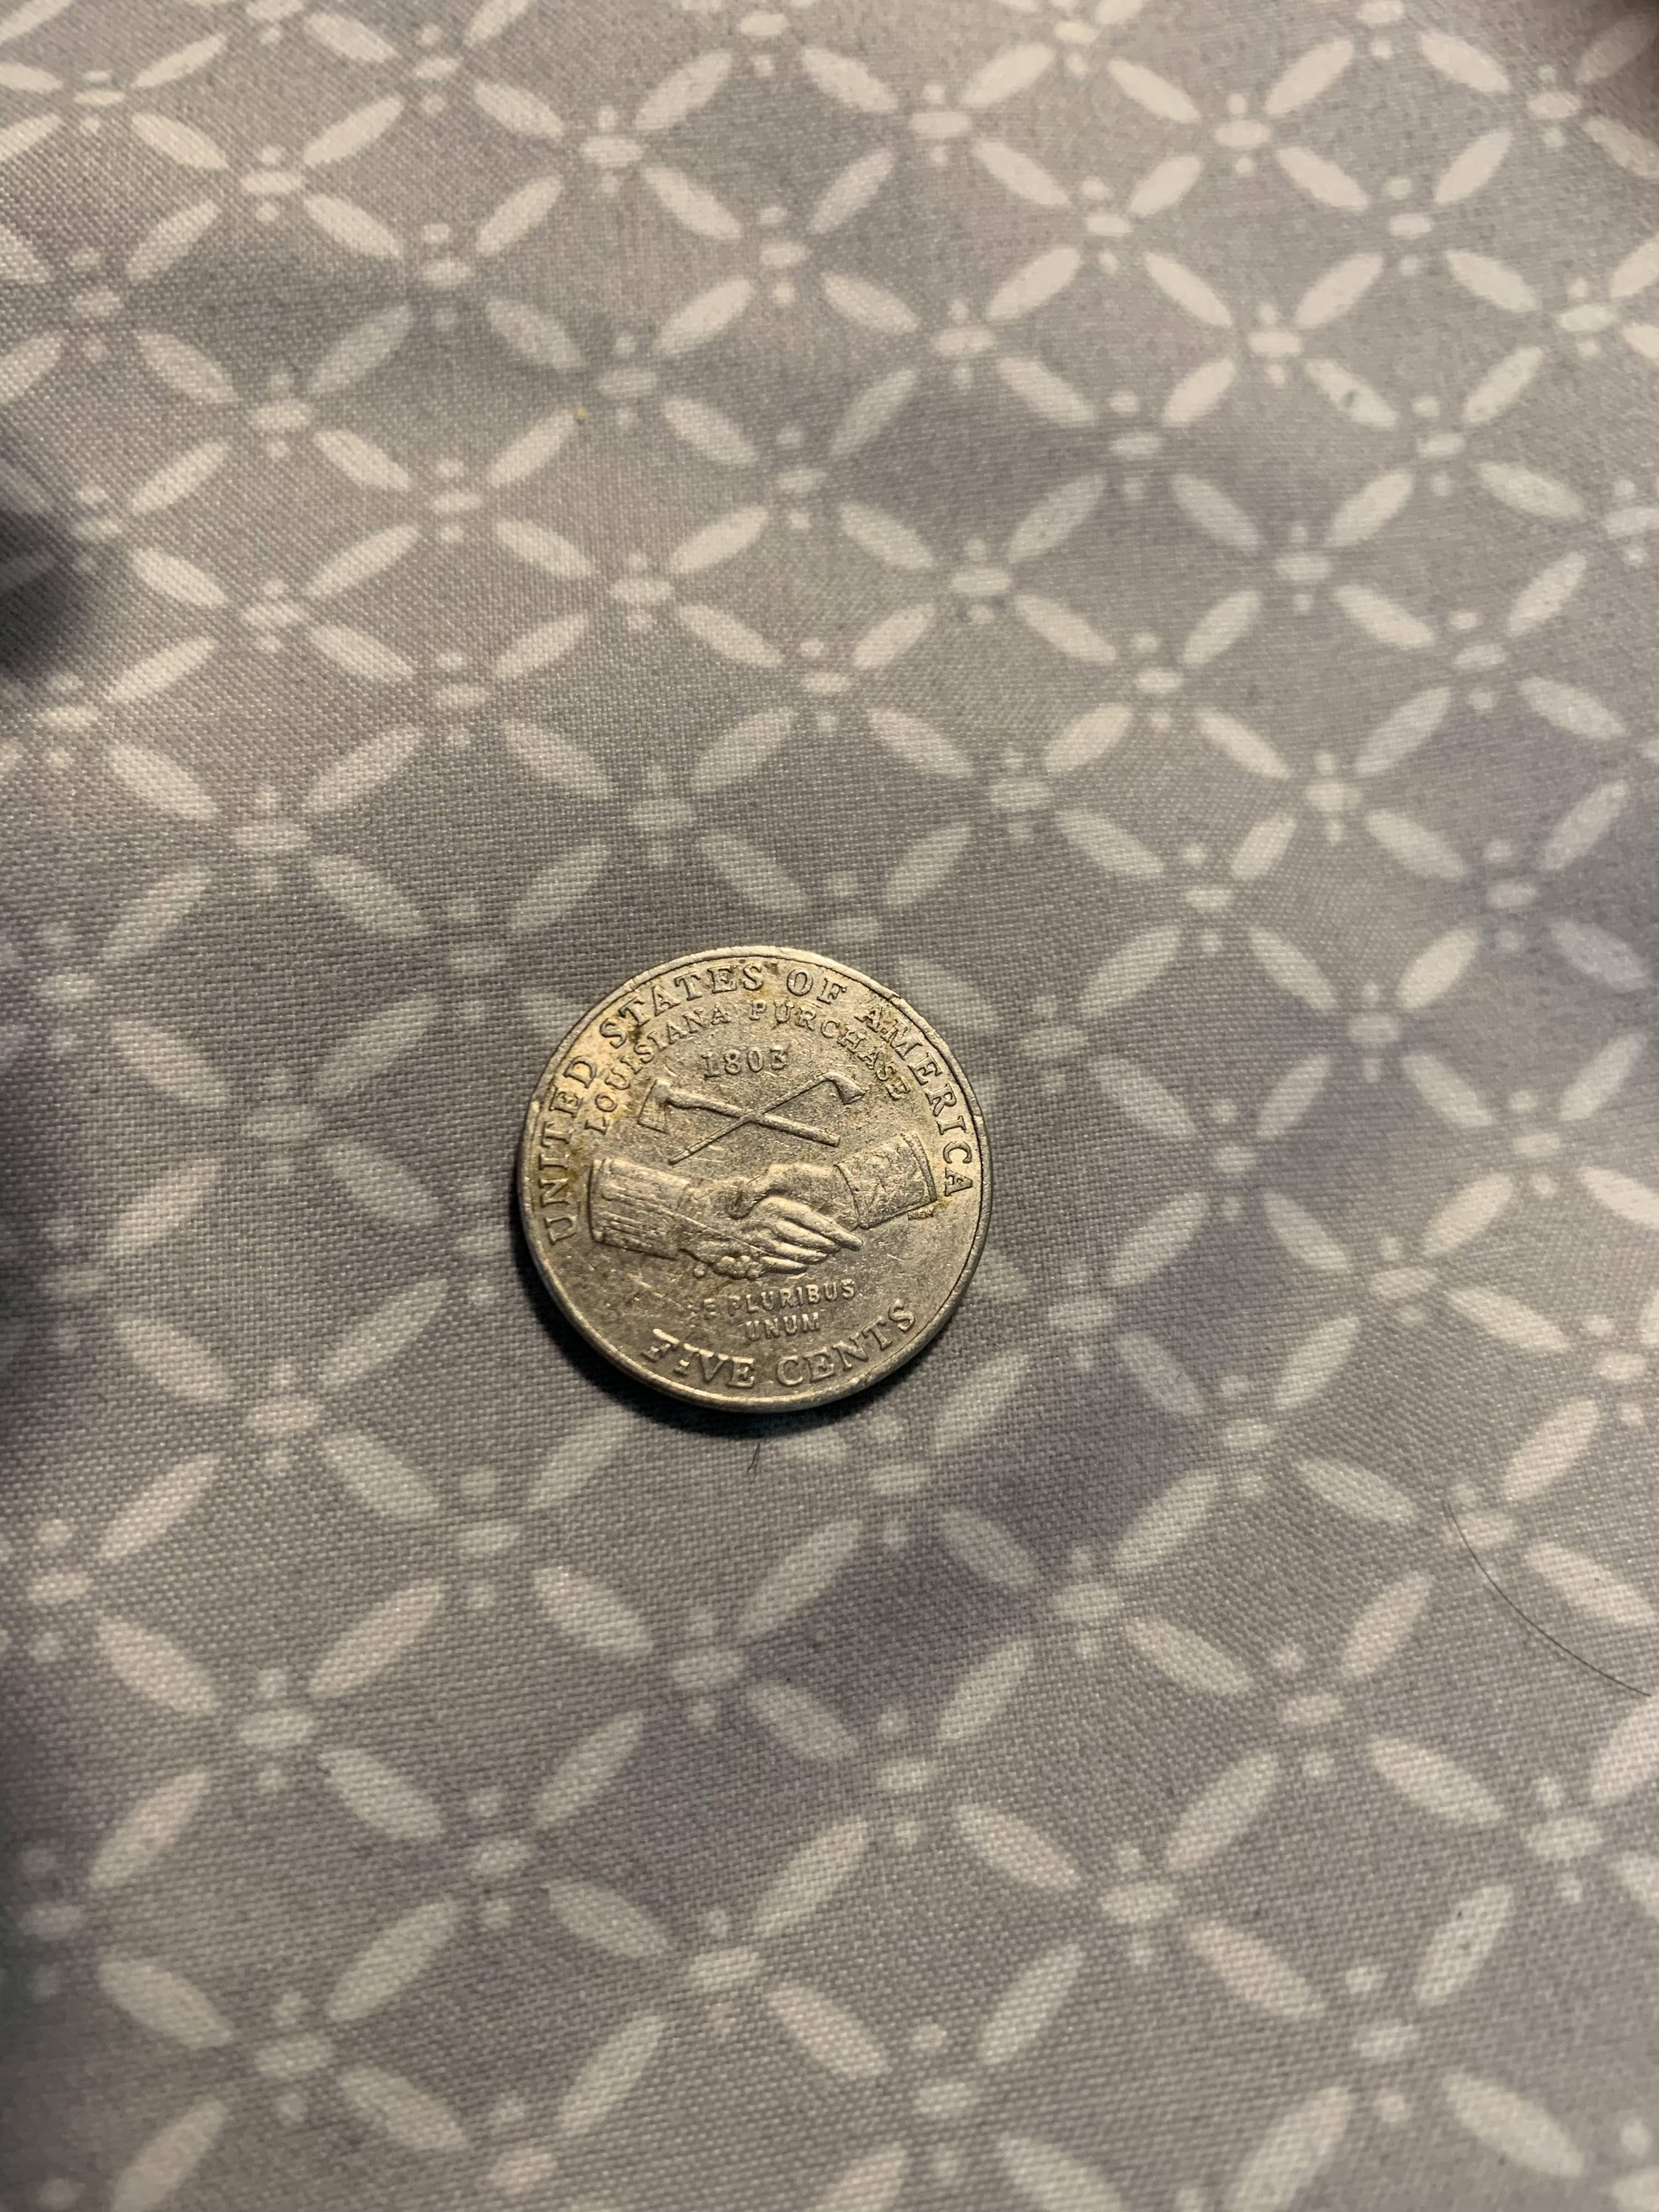Nickel: (484, 928, 1021, 1440)
